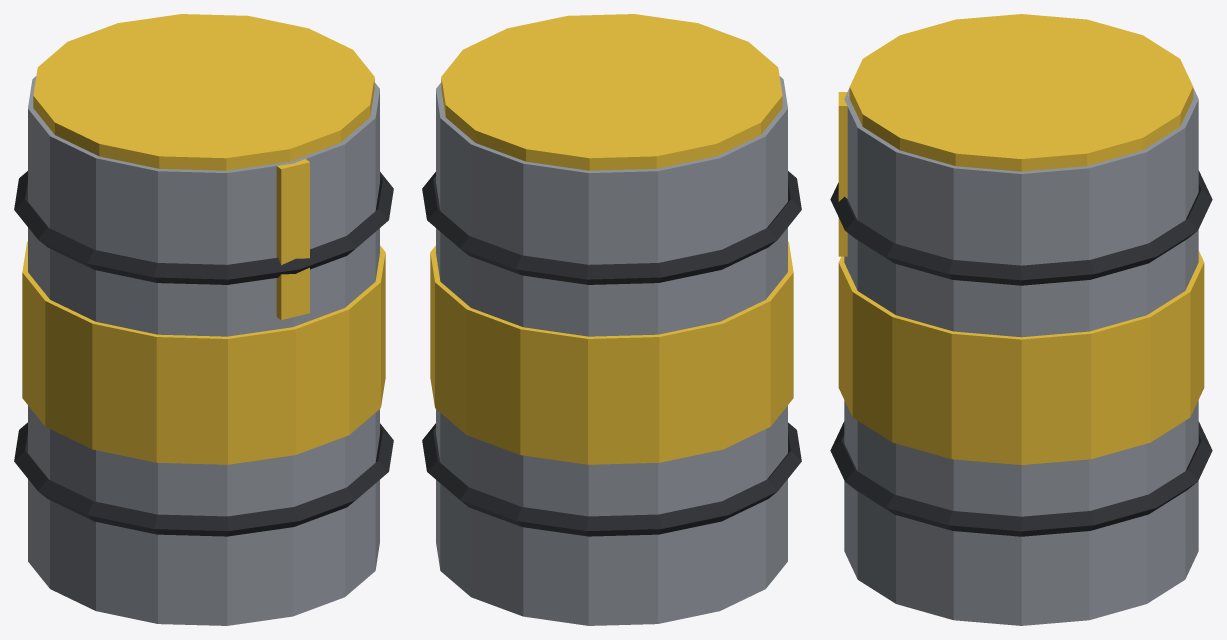
Rendered from ink_barrel_yellow.glb.
3 renders of one model, left to right at view 1: azimuth 30°, elevation 25°; view 2: azimuth 150°, elevation 25°; view 3: azimuth 270°, elevation 25°, orthographic.
Visible parts, largest first — view 1: drum_press_steel, band_ink_ink_barrel_yellow, lid_ink_ink_barrel_yellow, hoop_press_dark (×2), drip_ink_ink_barrel_yellow; view 2: drum_press_steel, band_ink_ink_barrel_yellow, lid_ink_ink_barrel_yellow, hoop_press_dark (×2); view 3: drum_press_steel, band_ink_ink_barrel_yellow, lid_ink_ink_barrel_yellow, hoop_press_dark (×2), drip_ink_ink_barrel_yellow.
Part boxes in pixels (x1,y1,x2,y2): drum_press_steel: (28, 76, 379, 625); band_ink_ink_barrel_yellow: (22, 241, 385, 464); lid_ink_ink_barrel_yellow: (33, 14, 374, 170); hoop_press_dark (×2): (14, 171, 393, 536); drip_ink_ink_barrel_yellow: (276, 159, 309, 319); drum_press_steel: (436, 76, 787, 625); band_ink_ink_barrel_yellow: (430, 241, 793, 464); lid_ink_ink_barrel_yellow: (441, 14, 782, 170); hoop_press_dark (×2): (422, 171, 801, 536); drum_press_steel: (844, 88, 1198, 625); band_ink_ink_barrel_yellow: (838, 251, 1204, 464); lid_ink_ink_barrel_yellow: (849, 14, 1193, 171); hoop_press_dark (×2): (830, 170, 1212, 536); drip_ink_ink_barrel_yellow: (838, 92, 849, 256).
Size of the model in its own units: 0.69 by 0.925 by 0.69.
